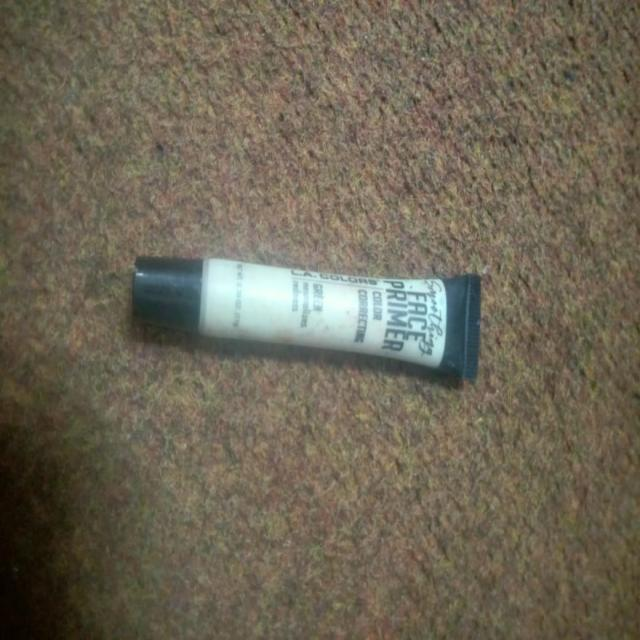primer: (104, 230, 502, 412)
